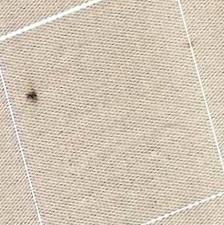stain: (24, 84, 46, 106)
